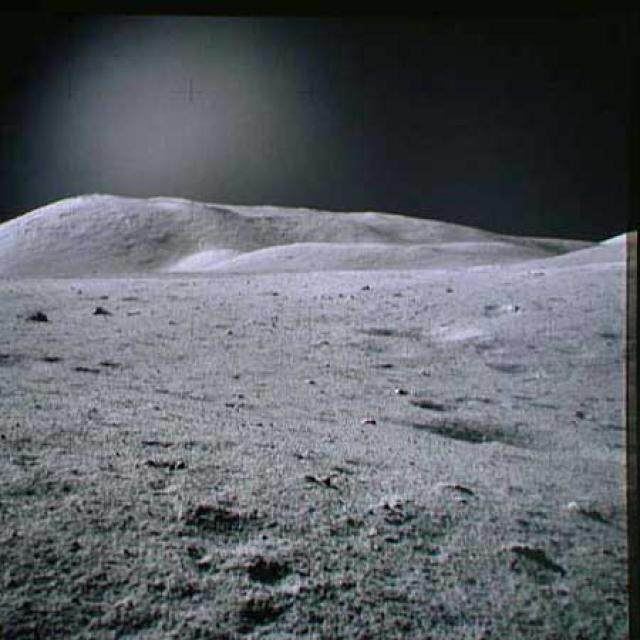crater: (427, 414, 622, 464), (358, 317, 486, 349)
rock: (18, 300, 52, 328)
